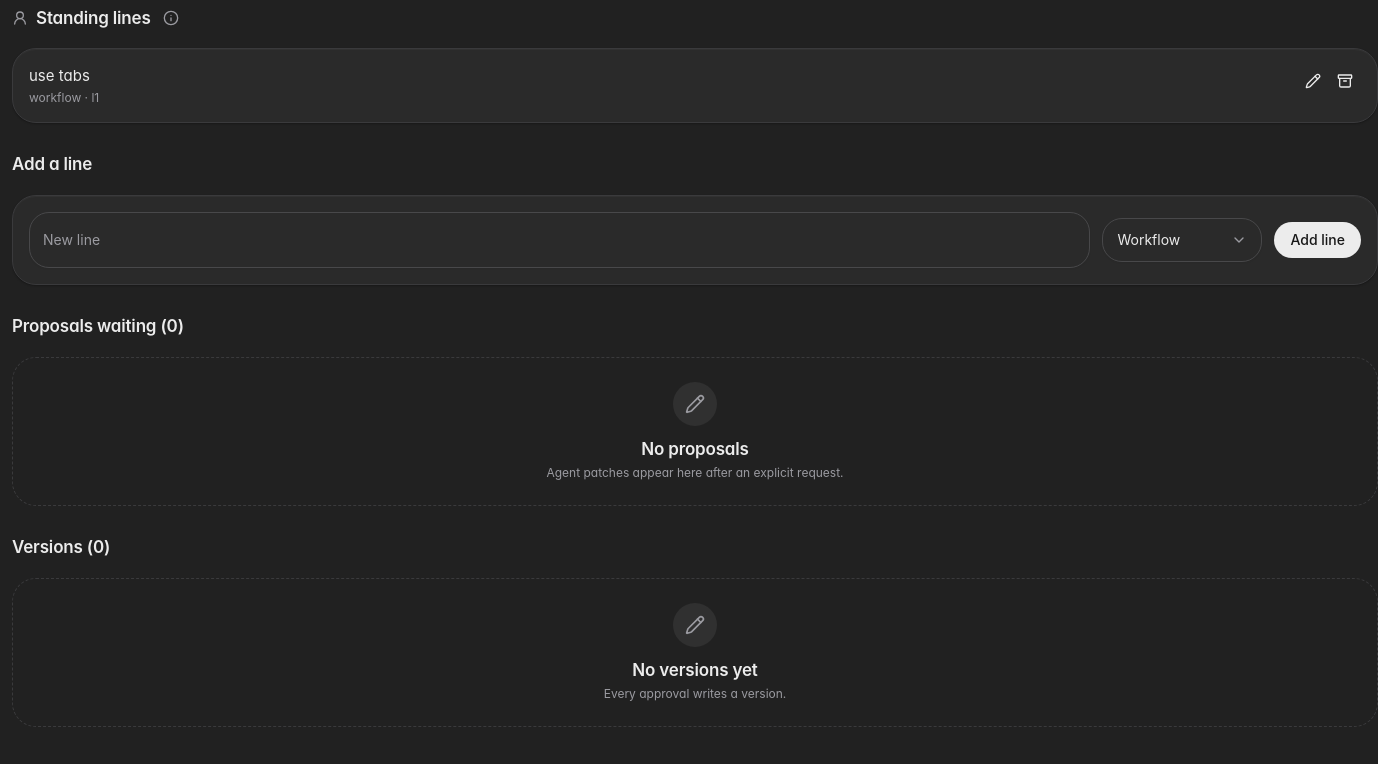
Test: ProfileSettings › surfaces a rejected save as an error
Expected: the text "use tabs" is shown, [29, 66, 90, 85]
Type "another" into the field labelled "New line" at (560, 240), box [29, 212, 1090, 268]
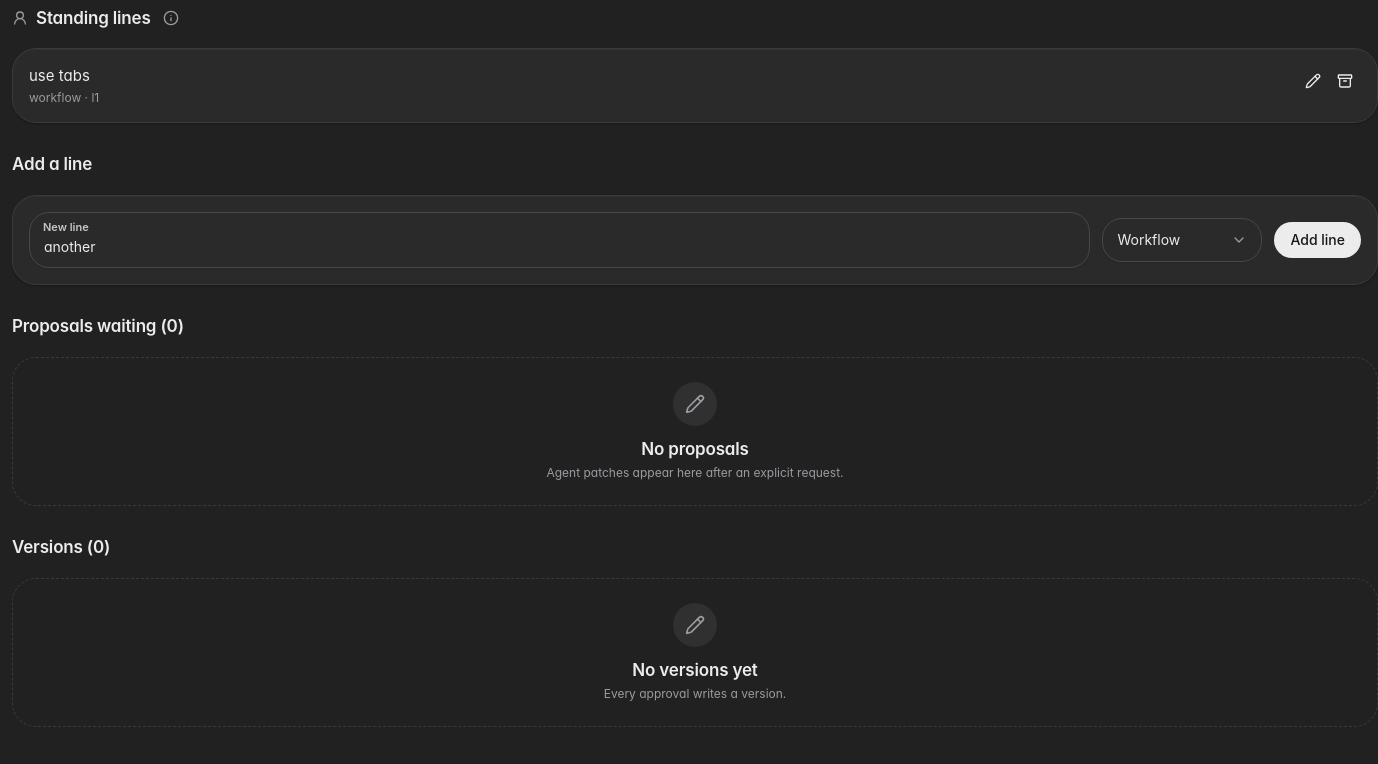
Click the button "Add line" at (1318, 240), box [1274, 222, 1361, 258]
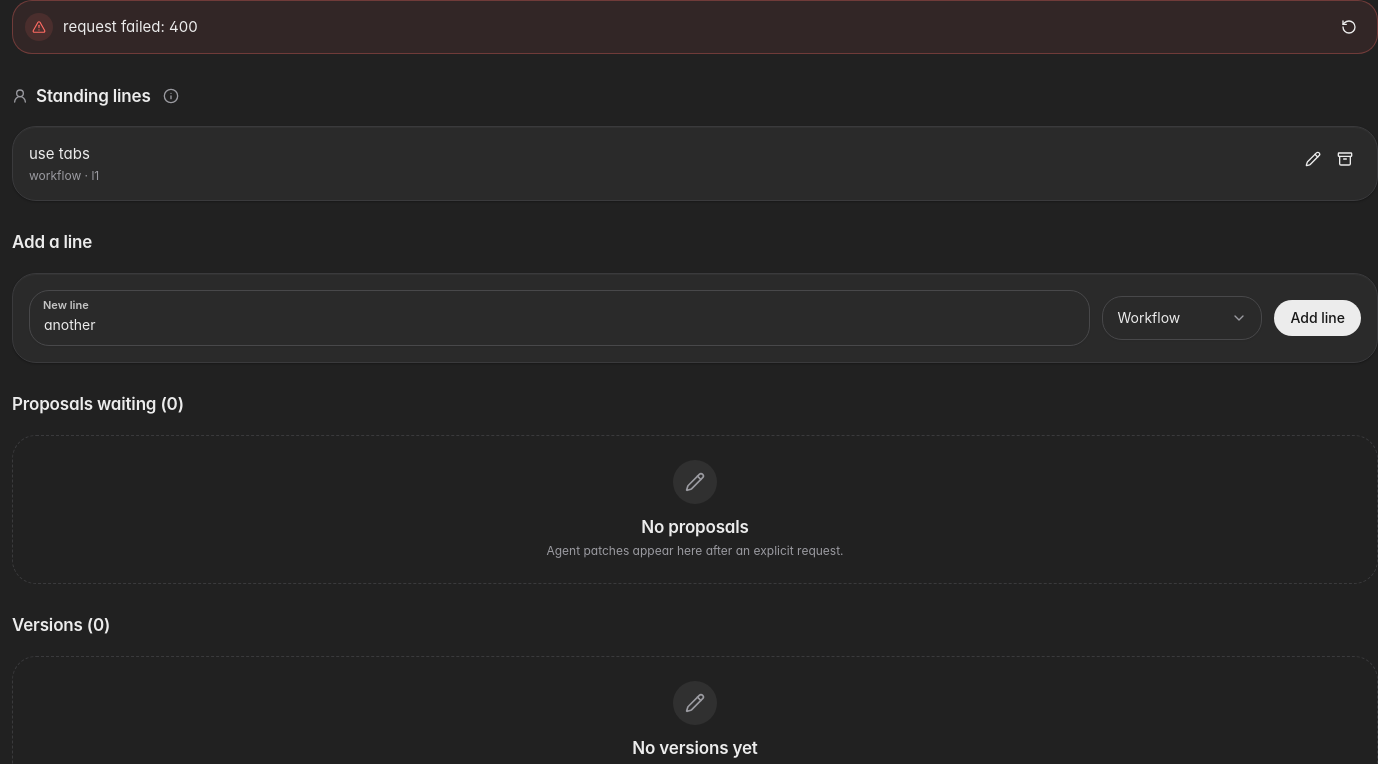
Now the message "request failed: 400" is shown, box [12, 0, 1377, 54]
